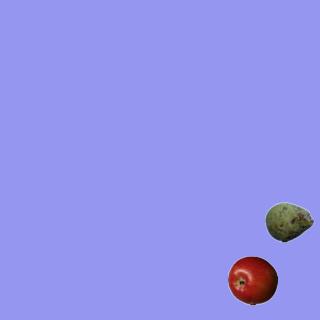Apple Braeburn: (227, 255, 277, 305)
Pear Stone: (264, 197, 314, 247)
